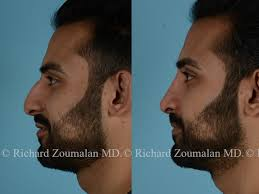middle_eastern_male: (18, 18, 118, 161)
